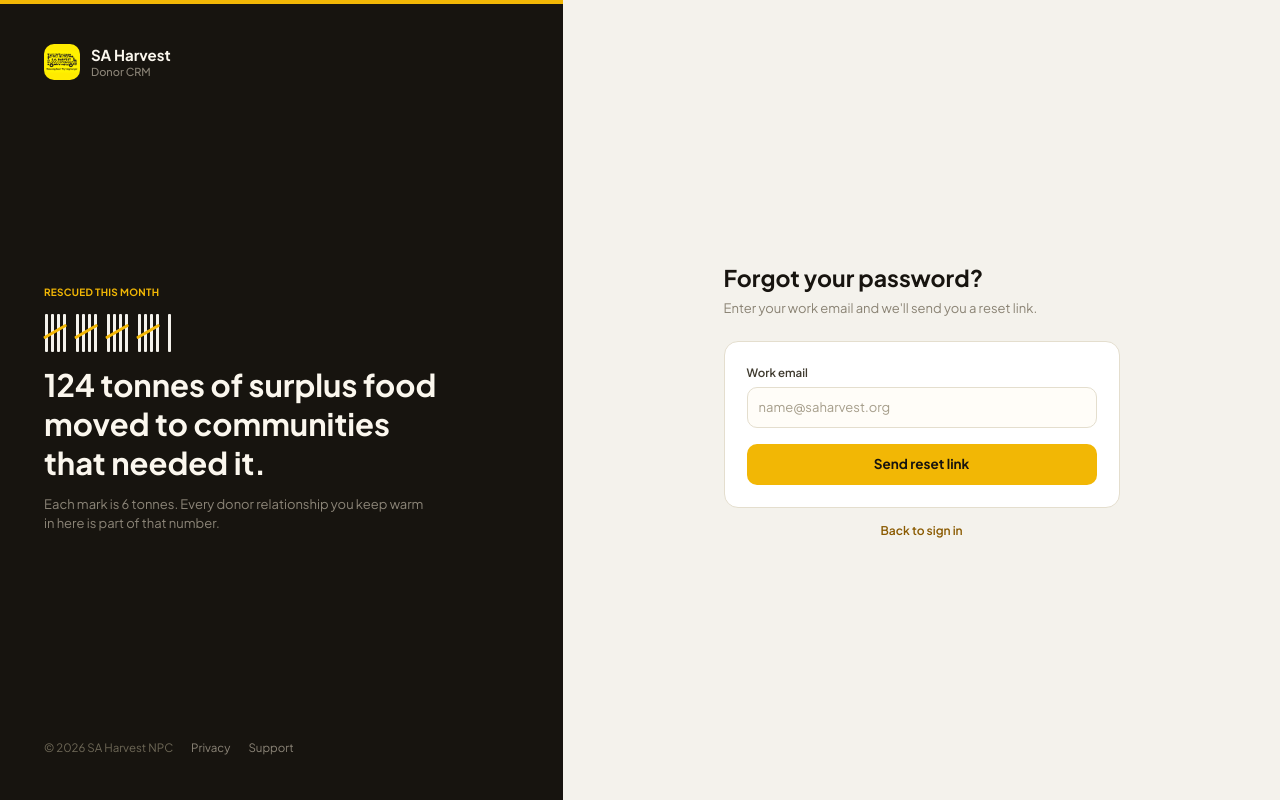
Test case: ForgotPasswordPage › Failed submit (network/server error) → shows generic error message, no success message
Type "test@saharvest.org" into the field with placeholder "name@saharvest.org" at (922, 408), box [747,387,1097,428]
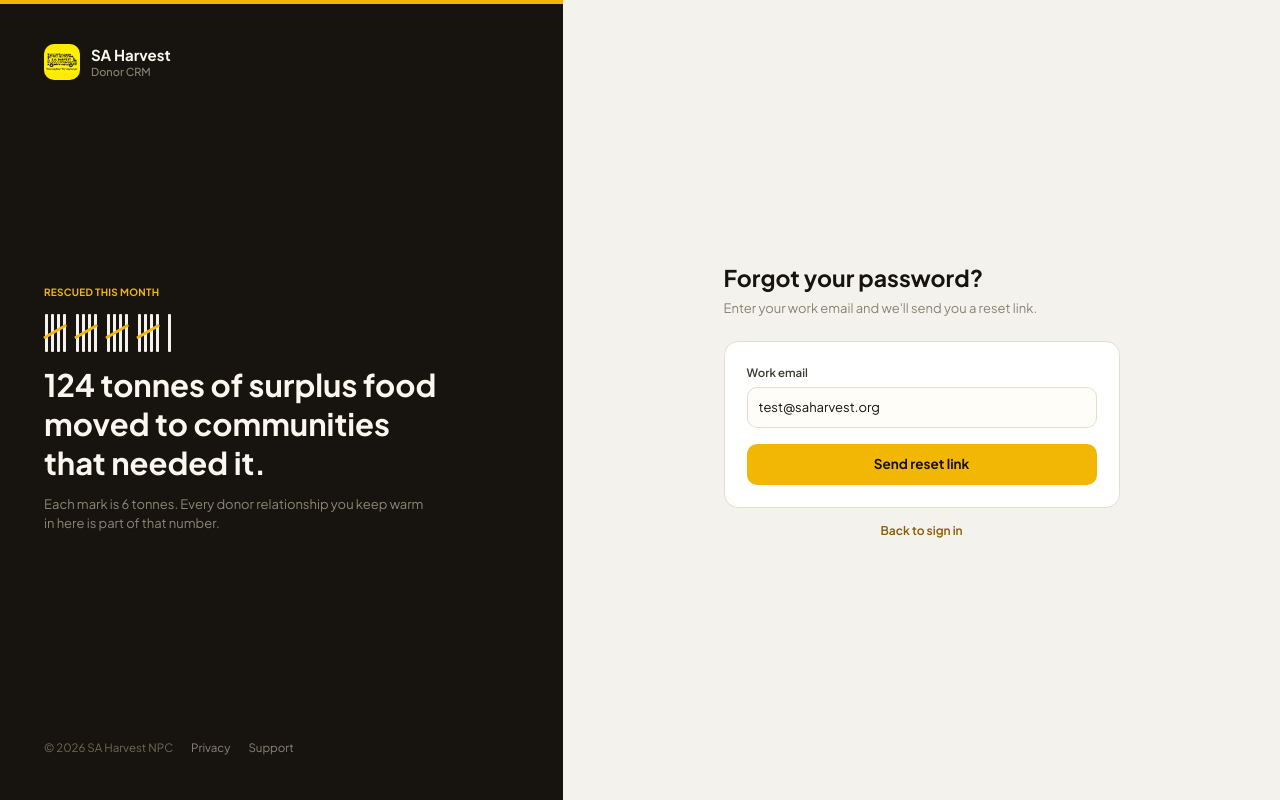
Click the button "Send reset link" at (922, 464), box [747,444,1097,485]
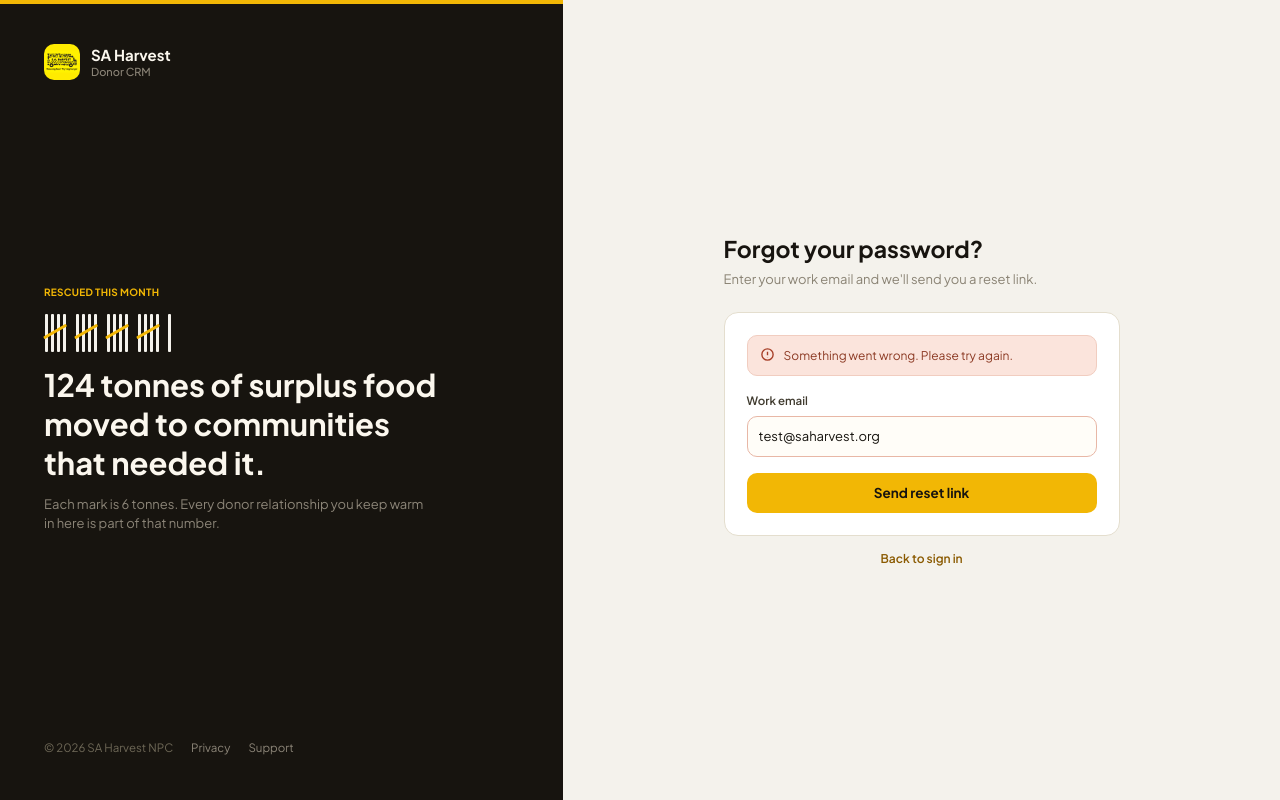
Result: the text "Something went wrong. Please try again." is shown at [784,346,1013,365]
